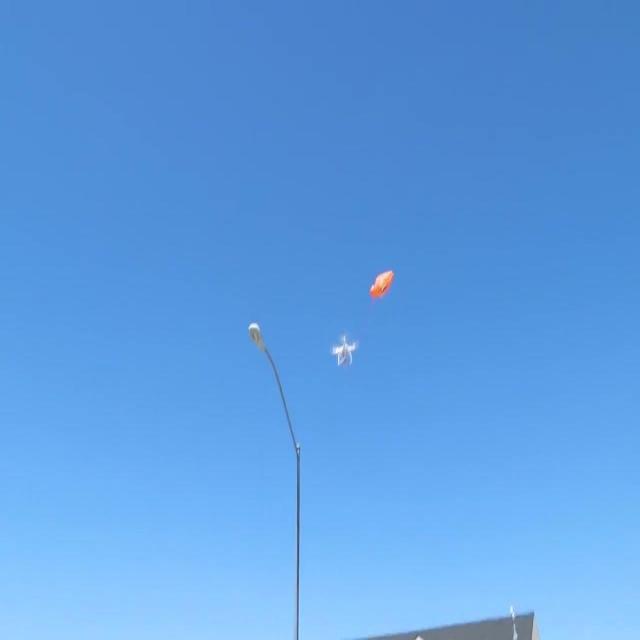UAV: (332, 335, 356, 366)
